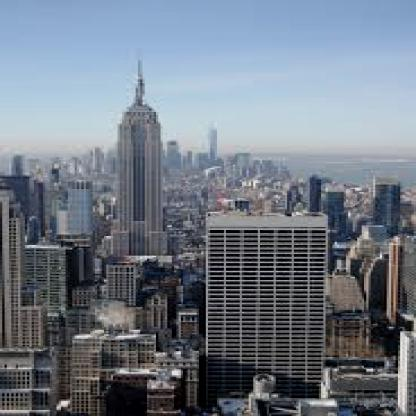Empire-State-building: (110, 43, 171, 257)
